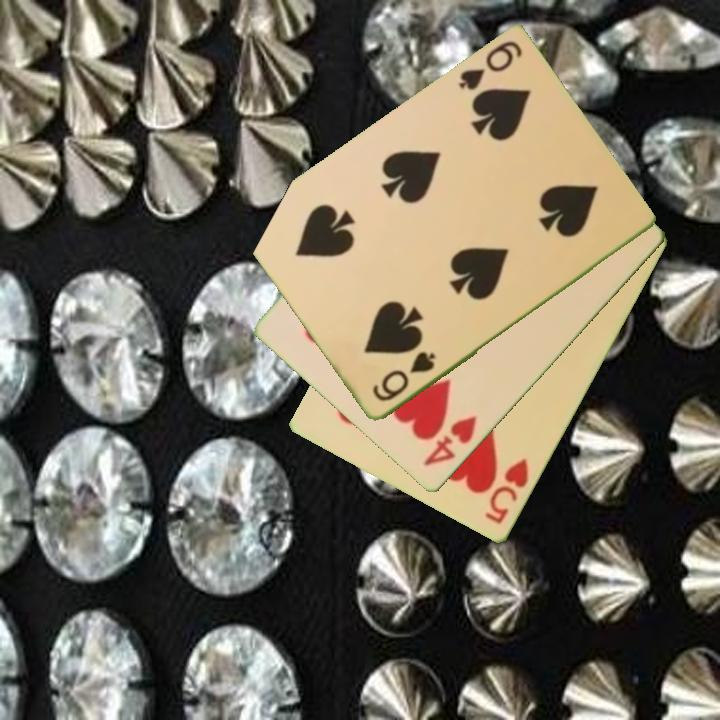4h: (419, 413, 480, 470)
5h: (481, 455, 532, 527)
6s: (368, 348, 438, 405), (454, 38, 525, 94)
